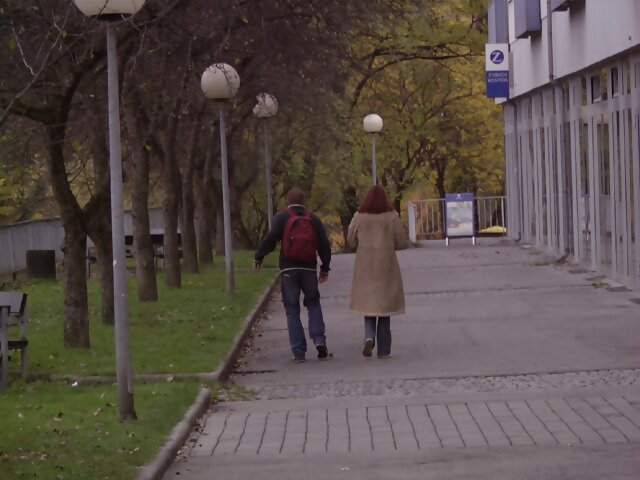person: (257, 184, 344, 362), (345, 180, 418, 356)
